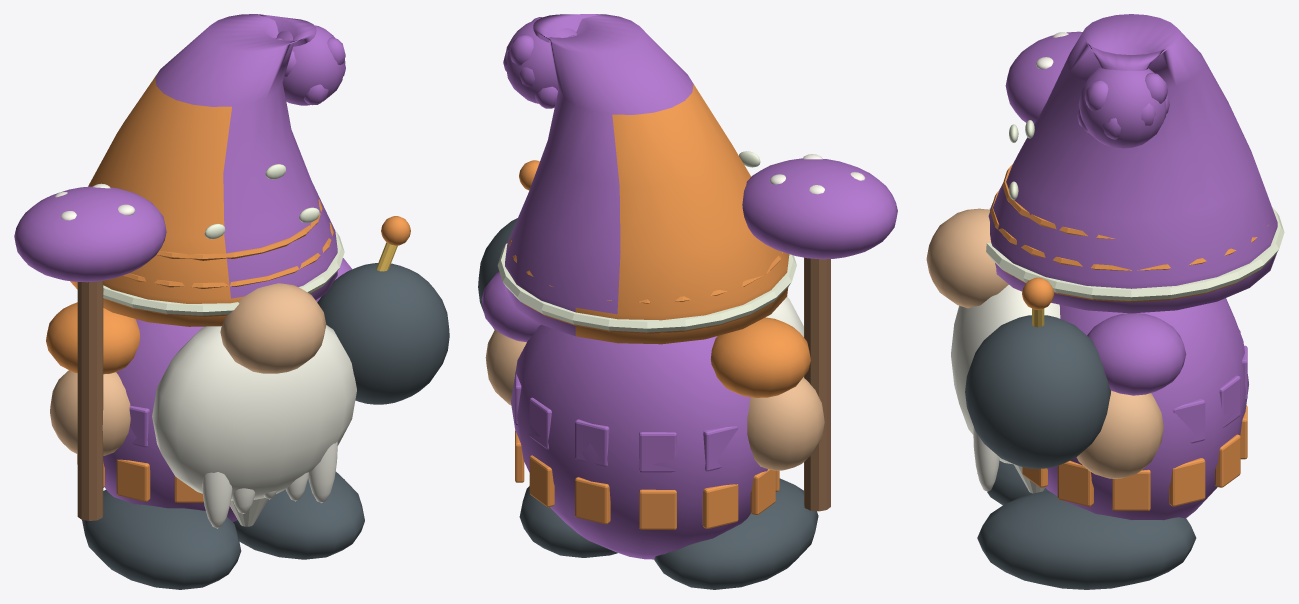
The model's file is gnome-fusion-boom-spore.glb.
The picture shows the model from 3 angles, left to right: view 1: azimuth 30°, elevation 25°; view 2: azimuth 150°, elevation 25°; view 3: azimuth 270°, elevation 25°; orthographic projection. The views are drawn at different scales.
Parts seen in each view (by area): view 1: gnome-fusion-boom-spore; view 2: gnome-fusion-boom-spore; view 3: gnome-fusion-boom-spore.
Part boxes in pixels (box(x1,y1,x2,y2)): gnome-fusion-boom-spore: box(14, 14, 449, 589); gnome-fusion-boom-spore: box(478, 14, 897, 589); gnome-fusion-boom-spore: box(926, 14, 1284, 589).
Bounding box in the file's own units: 1.23 × 1.46 × 0.882.
